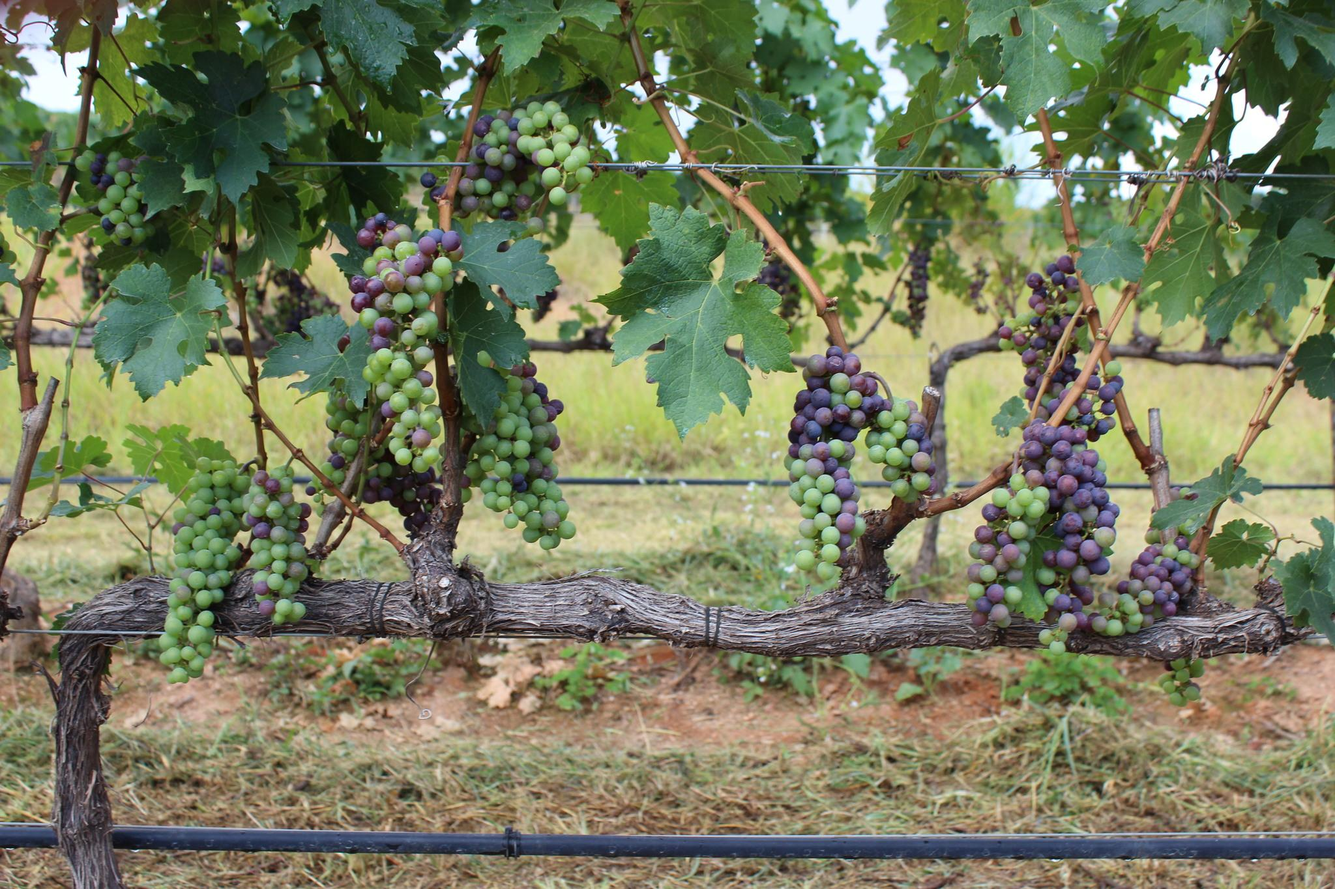Grape Ripe: (1022, 417, 1116, 589)
Grape Unripe: (348, 212, 448, 473), (465, 351, 576, 549), (995, 258, 1111, 442), (784, 346, 871, 578), (165, 457, 240, 683), (420, 109, 587, 204), (324, 395, 432, 524), (1087, 536, 1199, 637), (242, 465, 311, 623), (970, 473, 1040, 627), (865, 397, 935, 500), (81, 148, 156, 244)
